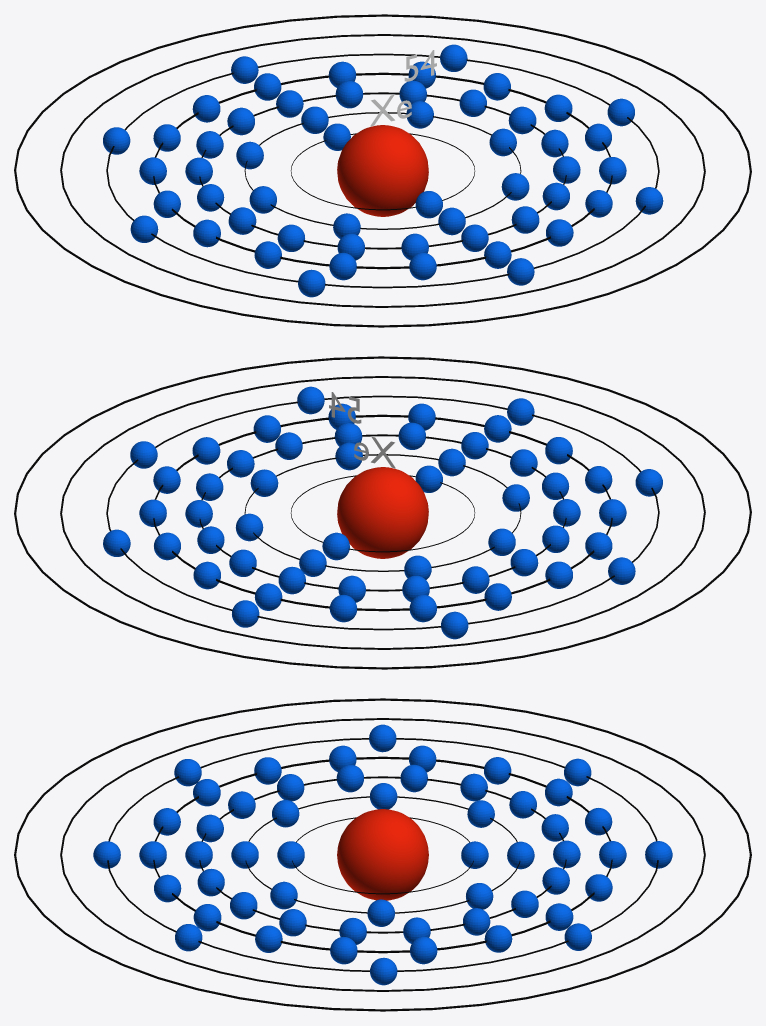
The picture shows the model from 3 angles, top to bottom: view 1: azimuth 30°, elevation 25°; view 2: azimuth 150°, elevation 25°; view 3: azimuth 270°, elevation 25°; orthographic projection.
Parts seen in each view (by area): view 1: Xe3, Xe4, Proton, Xe5, Xe2, n7, n6, n5, n4, Xe1, n3, n2; view 2: Xe3, Xe4, Proton, Xe5, n7, Xe2, n6, n5, n4, Xe1, n3, n2; view 3: Xe3, Xe4, Proton, Xe5, Xe2, n7, n6, n5, n4, Xe1, n3, n2 (+1 smaller).
Part boxes in pixels (box(x1,y1,x2,y2)): Xe3: box(185, 80, 580, 260); Xe4: box(139, 61, 626, 280); Proton: box(337, 125, 428, 216); Xe5: box(103, 44, 663, 297); Xe2: box(236, 101, 529, 238); n7: box(14, 14, 751, 327); n6: box(60, 34, 705, 307); n5: box(106, 53, 659, 288); n4: box(153, 72, 612, 269); Xe1: box(323, 123, 442, 218); n3: box(199, 92, 566, 249); n2: box(244, 112, 521, 229); Xe3: box(185, 422, 580, 602); Xe4: box(139, 403, 626, 622); Proton: box(337, 467, 428, 558); Xe5: box(103, 386, 662, 639); n7: box(14, 356, 751, 669); Xe2: box(235, 442, 529, 579); n6: box(60, 376, 705, 649); n5: box(106, 395, 659, 630); n4: box(153, 414, 612, 611); Xe1: box(322, 465, 442, 560); n3: box(199, 434, 566, 591); n2: box(244, 454, 521, 571); Xe3: box(185, 764, 580, 944); Xe4: box(139, 745, 626, 964); Proton: box(337, 809, 428, 900); Xe5: box(93, 724, 672, 985); Xe2: box(231, 783, 534, 926); n7: box(14, 698, 751, 1011); n6: box(60, 718, 705, 991); n5: box(107, 738, 658, 971); n4: box(153, 756, 612, 953); Xe1: box(277, 841, 488, 868); n3: box(199, 776, 566, 933); n2: box(245, 796, 520, 913).
Bounding box in the file's own units: 802 × 180 × 802.
